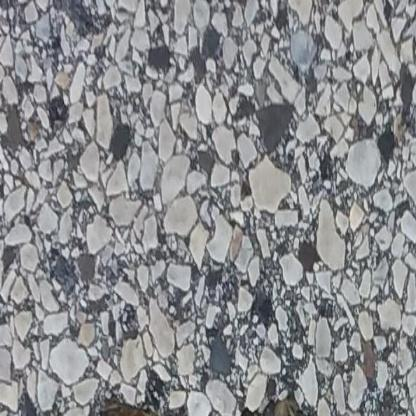Cracks: (83, 390, 318, 416)
